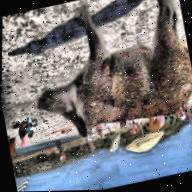boar: (19, 0, 192, 154)
